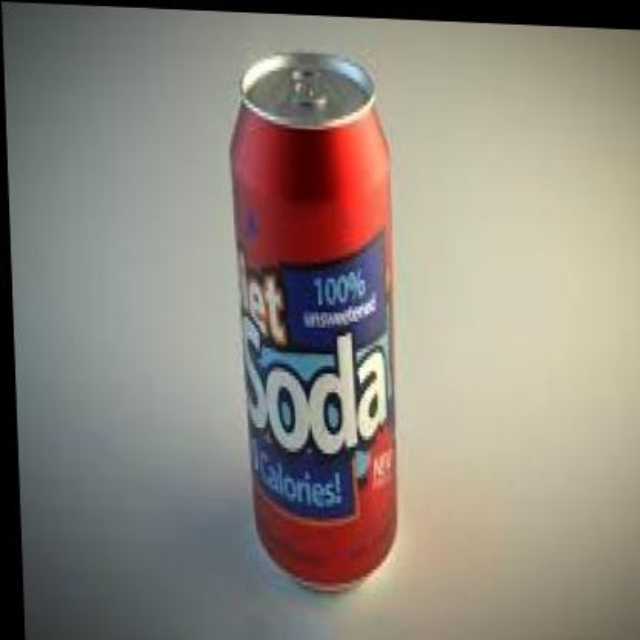trash: (232, 52, 395, 588)
